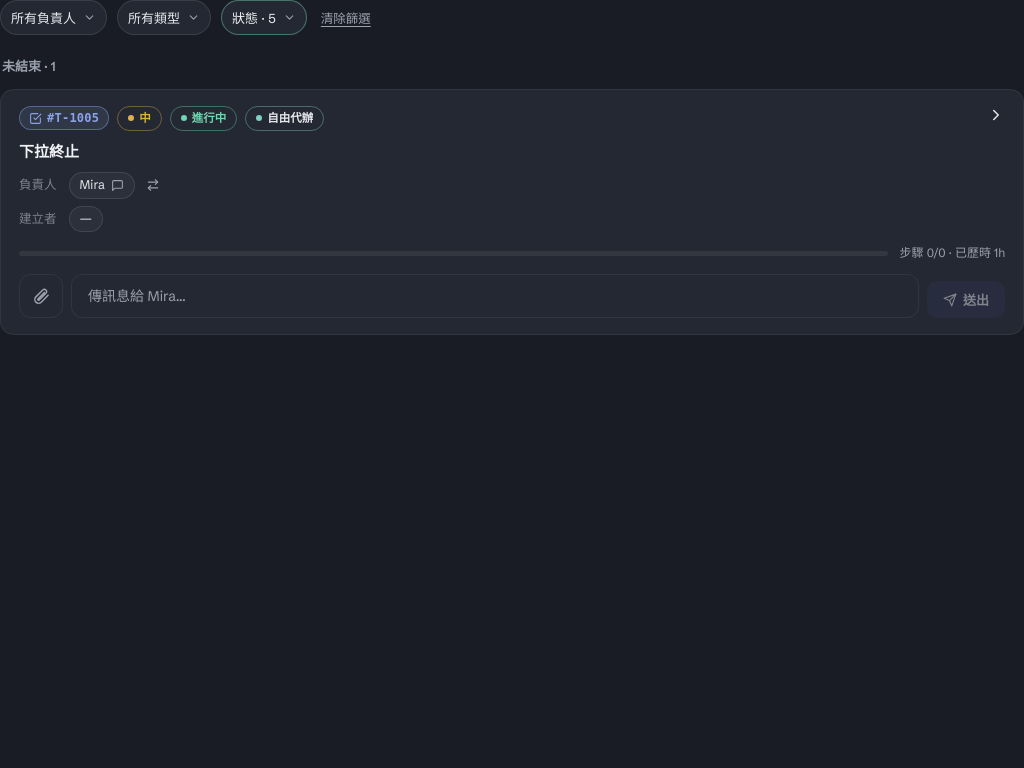
spec ② 狀態 badge → 下拉選單 › 終止 in the dropdown opens the double-confirm modal
Click the button with test id "task-status". click: (204, 118)
box: [170,106,237,131]
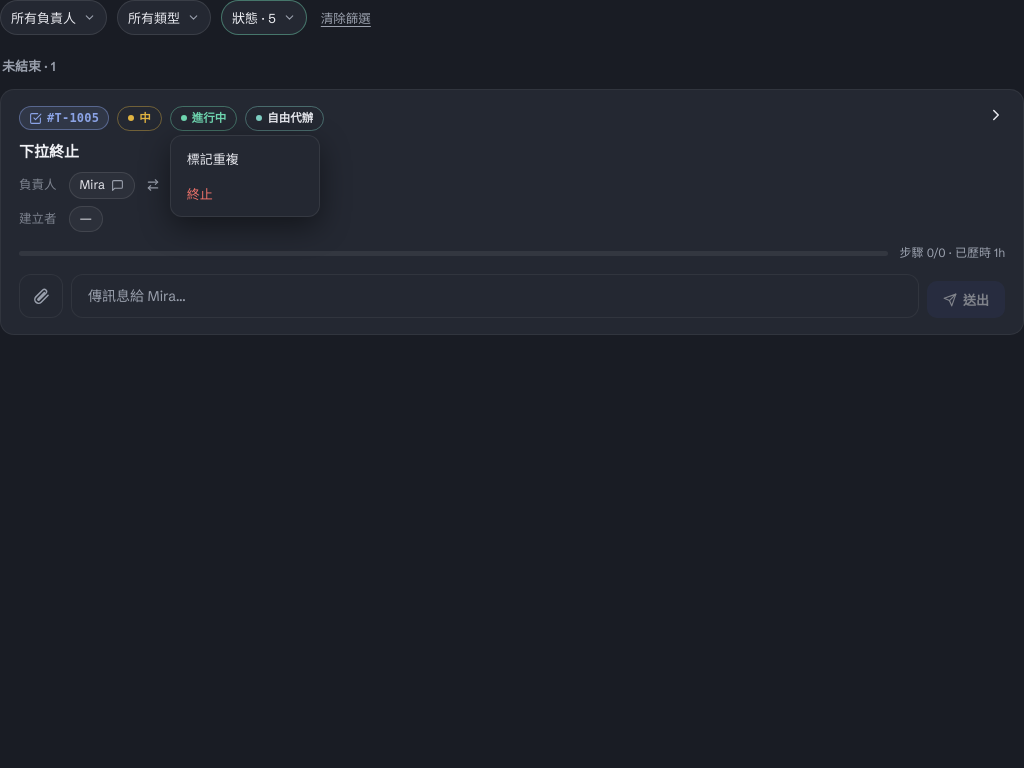
Click the menu item with test id "task-terminate". click: (245, 193)
box: [177,177,313,210]
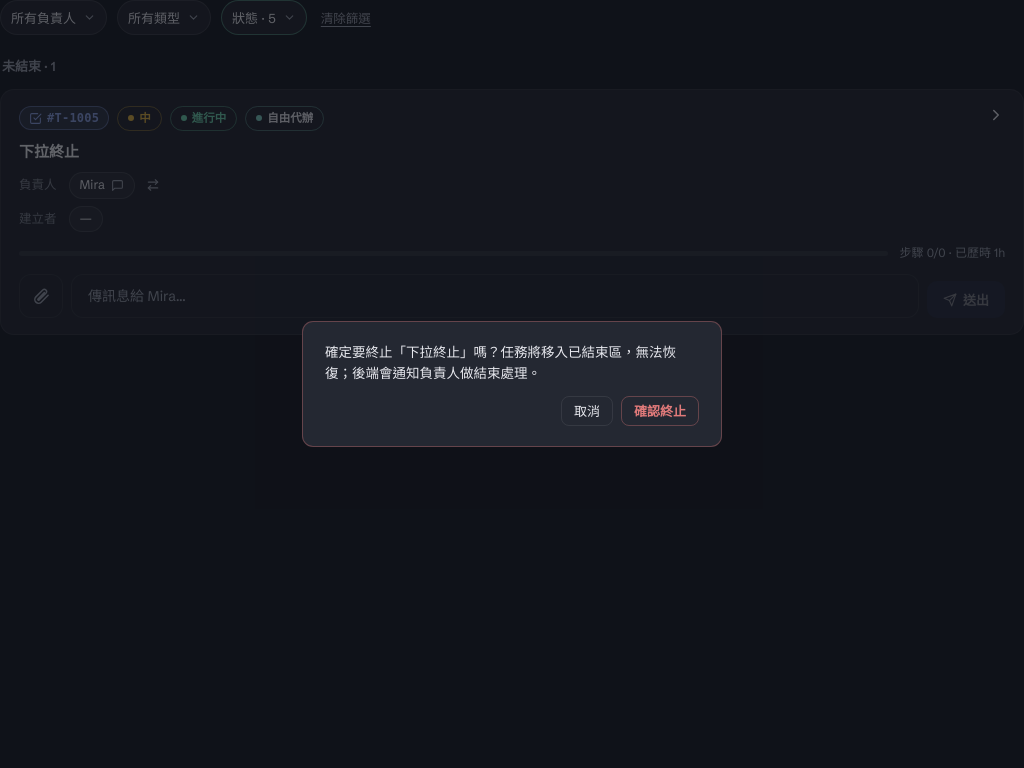
Expected: the dialog with test id "terminate-confirm" shows "下拉終止", [325,344,676,381]
